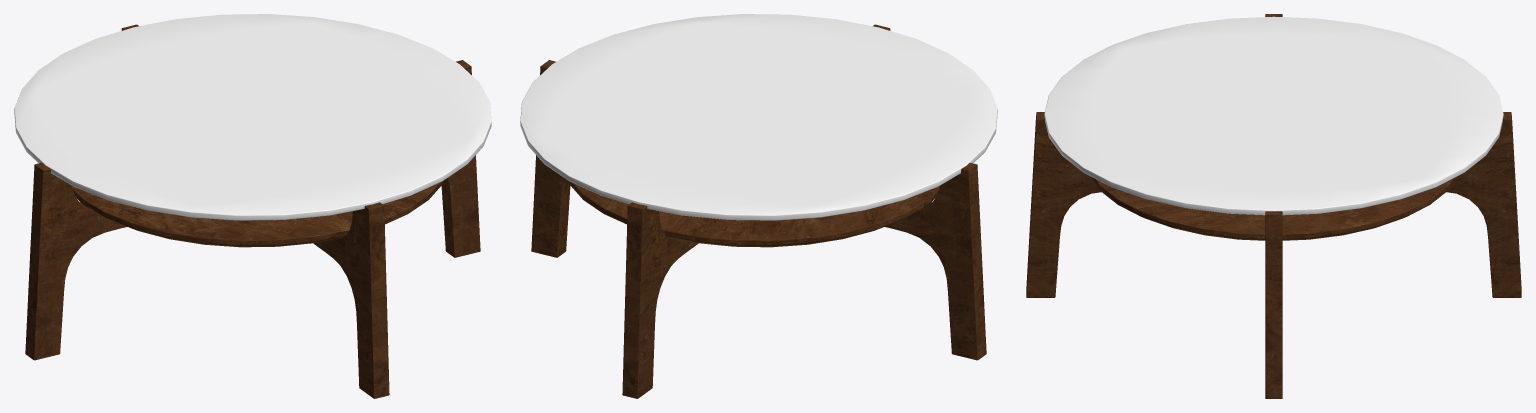
The model's file is fit-coffee-round.glb.
The picture shows the model from 3 angles, left to right: view 1: azimuth 30°, elevation 25°; view 2: azimuth 150°, elevation 25°; view 3: azimuth 270°, elevation 25°; orthographic projection. The views are drawn at different scales.
Size of the model in its own units: 1.03 by 0.4135 by 1.03.
2 materials, 1 textured.
